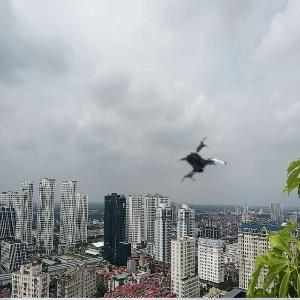drone: (174, 136, 235, 197)
